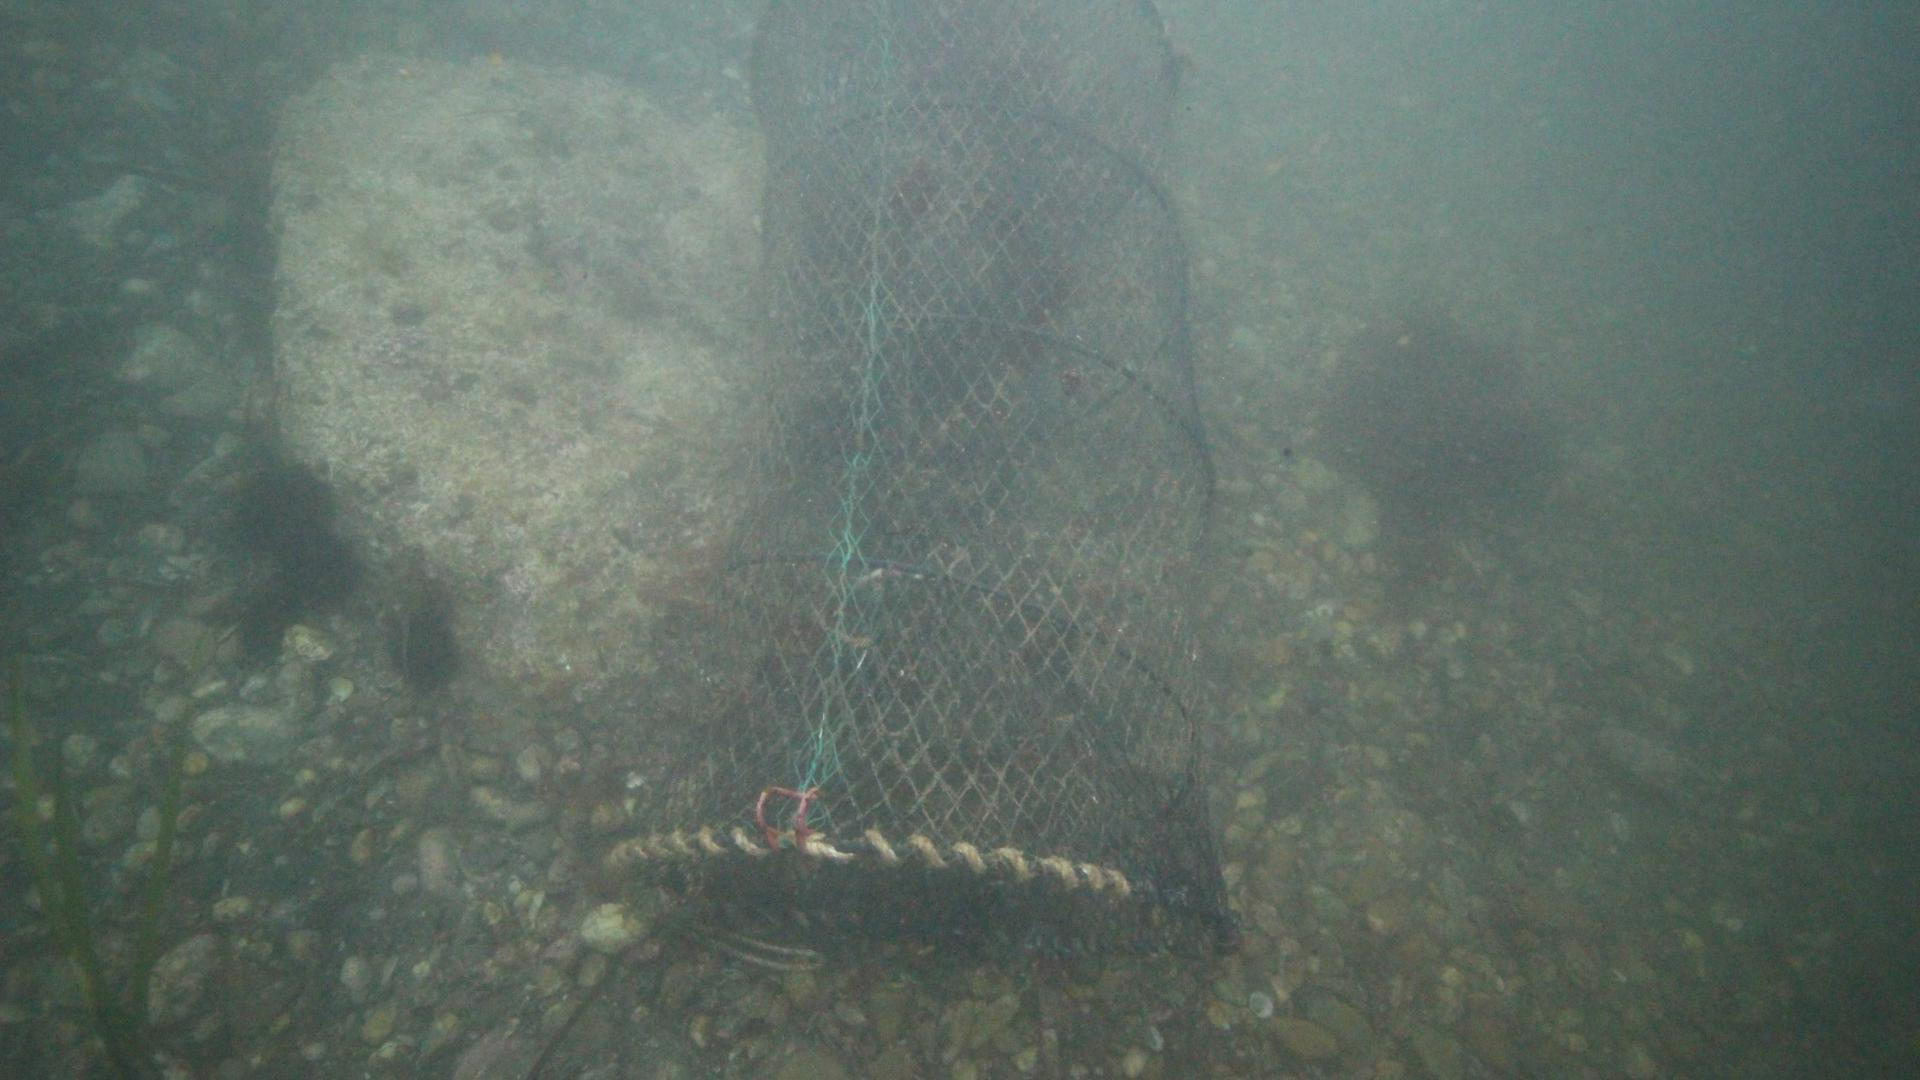spring fish trap: (604, 0, 1234, 967)
